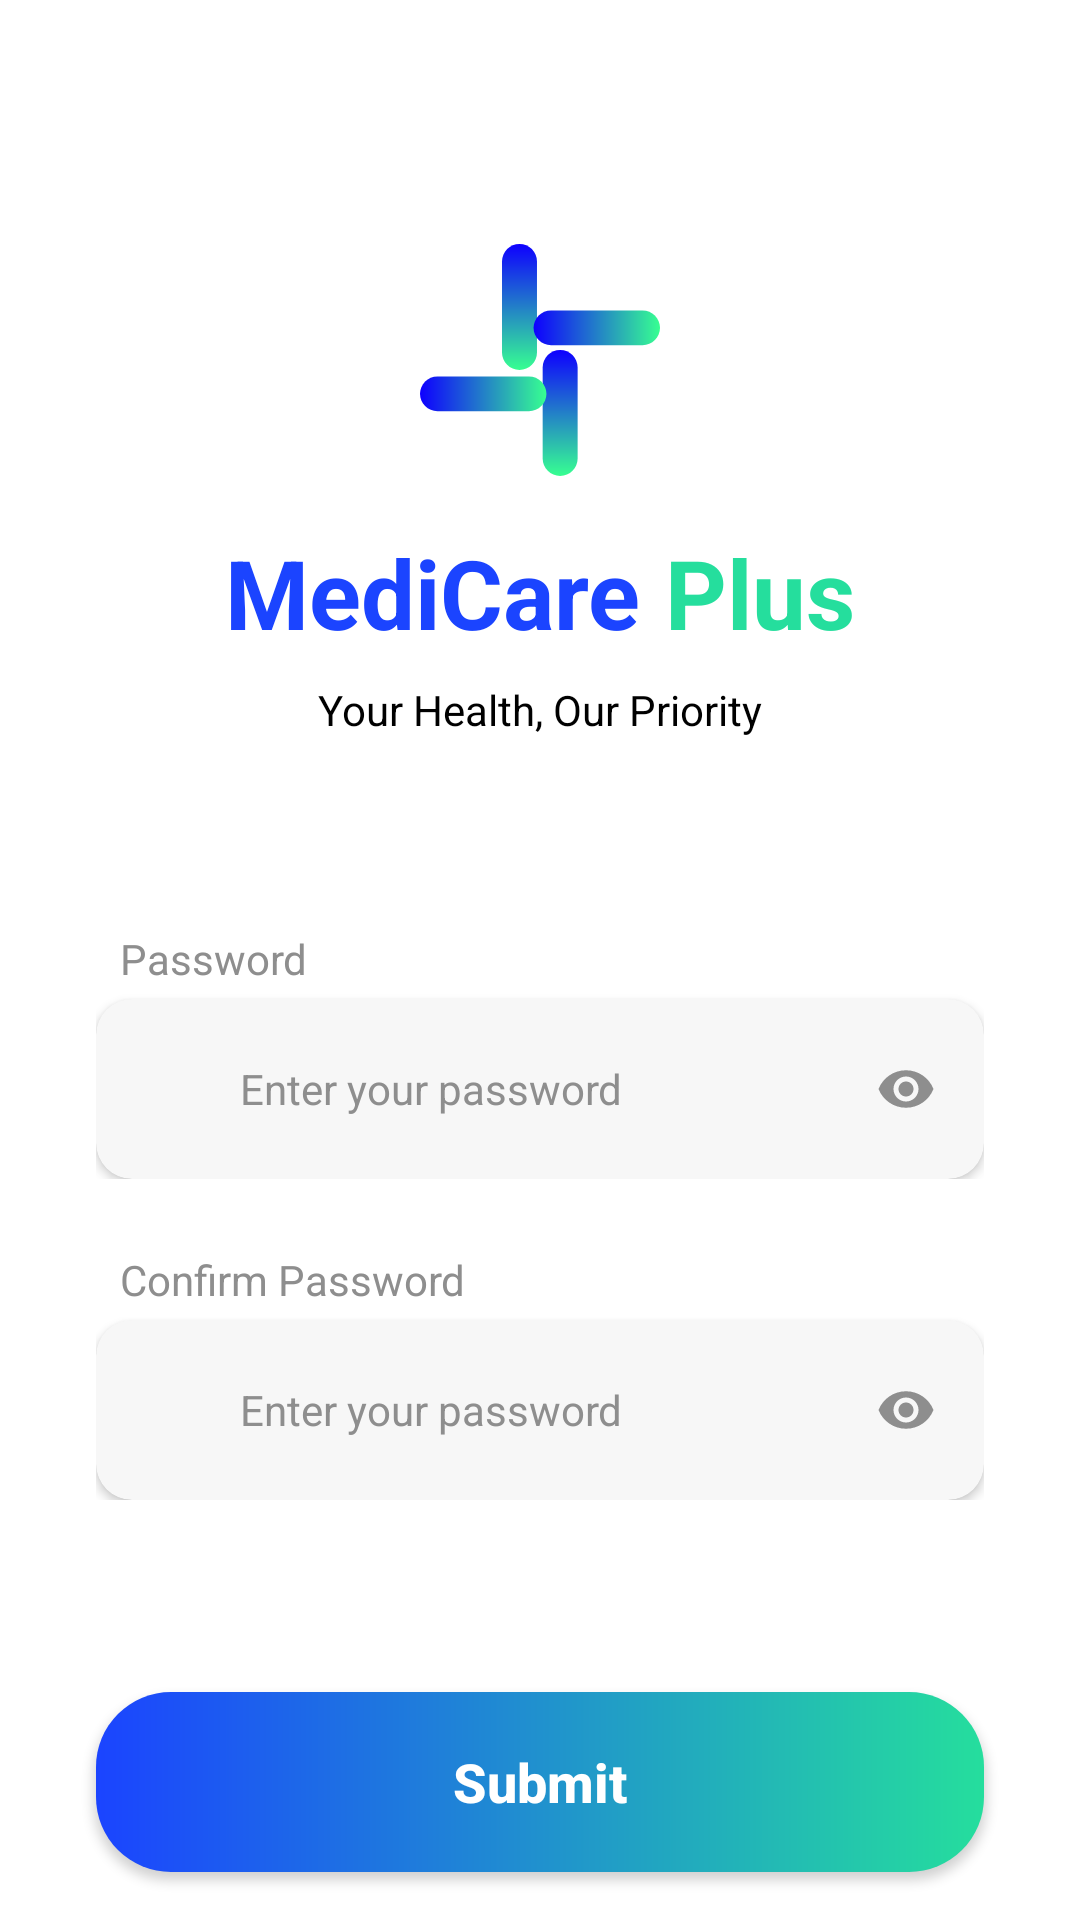

Locate icon controls on the screen. Image size 1080*1920, boxes as (x1, y1, x2, y2).
Toggle Visibility: (878, 1070, 934, 1108), (878, 1391, 934, 1429)
